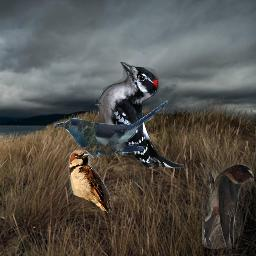Cuckoo: (54, 100, 172, 159)
Swallow: (202, 164, 254, 249), (68, 150, 112, 236)
Woodpecker: (95, 62, 184, 168)
